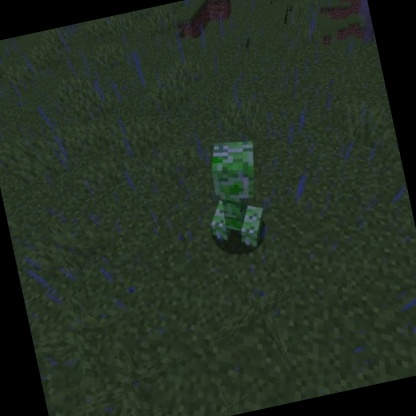creeper: (190, 131, 280, 260)
